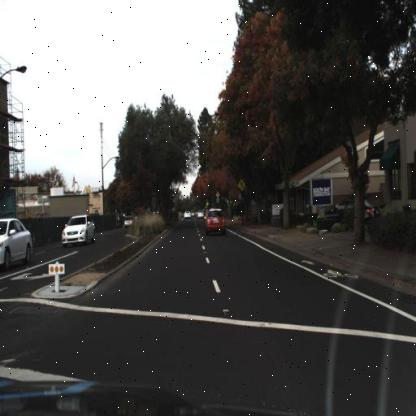car: (0, 216, 34, 275), (326, 196, 378, 227), (60, 210, 96, 251), (203, 206, 228, 238), (121, 213, 136, 229)
